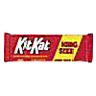grozi_30: (4, 33, 92, 63)
